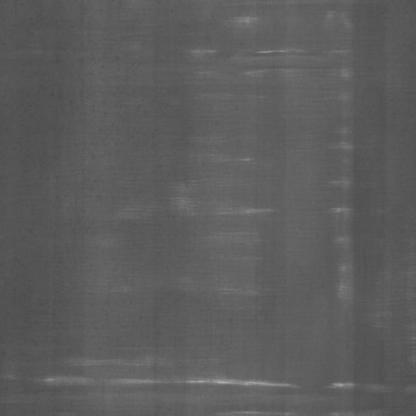waist_folding: (171, 18, 299, 317), (326, 16, 368, 404), (38, 358, 299, 402)
